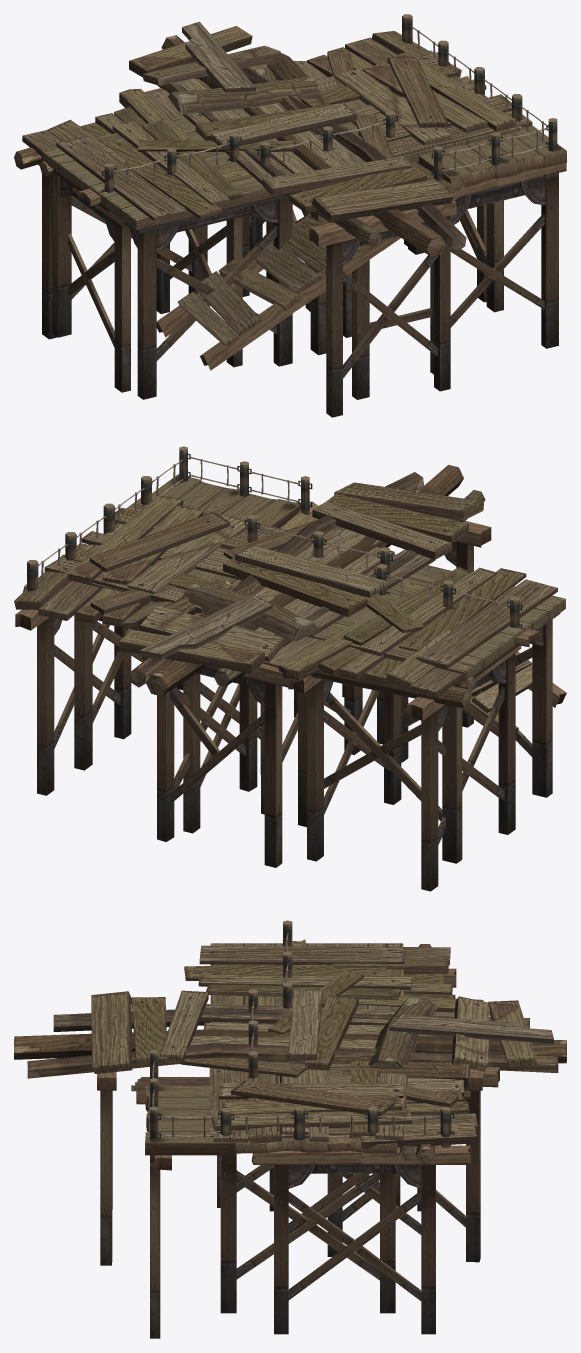
Rendered from muqiao.FBX.
3 renders of one model, top to bottom at view 1: azimuth 30°, elevation 25°; view 2: azimuth 150°, elevation 25°; view 3: azimuth 270°, elevation 25°, orthographic. The views are drawn at different scales.
Visible parts, largest first — view 1: pds_building_borderline001, pds_building_borderline003, pds_building_borderline002; view 2: pds_building_borderline001, pds_building_borderline003, pds_building_borderline002; view 3: pds_building_borderline003, pds_building_borderline001, pds_building_borderline002.
Part boxes in pixels (x1=…): pds_building_borderline001: x1=14, y1=14, x2=566, y2=399; pds_building_borderline003: x1=41, y1=52, x2=532, y2=399; pds_building_borderline002: x1=129, y1=21, x2=466, y2=417; pds_building_borderline001: x1=14, y1=446, x2=566, y2=891; pds_building_borderline003: x1=44, y1=495, x2=565, y2=863; pds_building_borderline002: x1=119, y1=465, x2=491, y2=867; pds_building_borderline003: x1=180, y1=939, x2=417, y2=1313; pds_building_borderline001: x1=131, y1=920, x2=483, y2=1338; pds_building_borderline002: x1=14, y1=990, x2=566, y2=1265.
Bounding box in the file's own units: 32.45 × 17.21 × 36.96.
